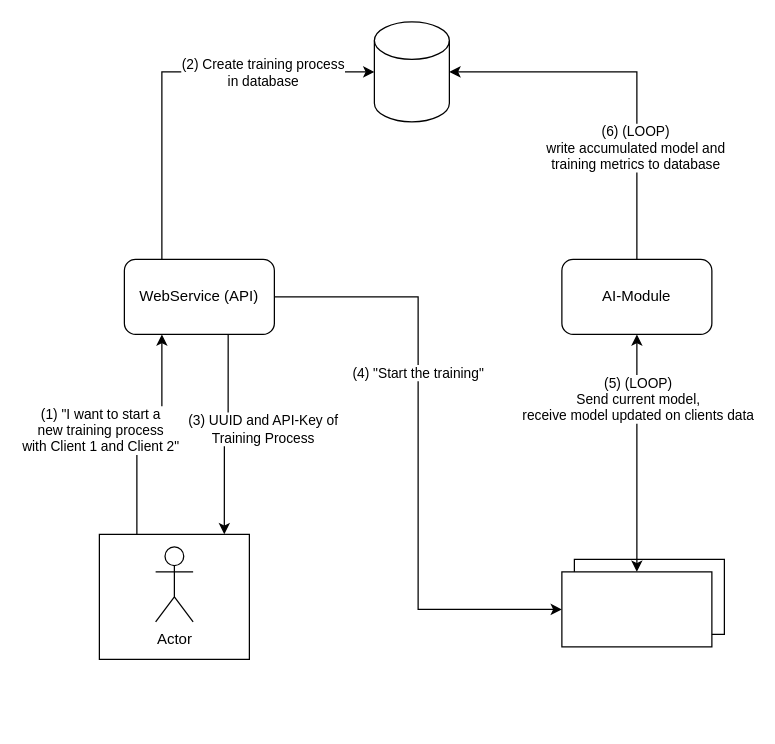
Image size: 775x744. Some labels were removed from this diagram. Here are the shapes that lost their labels. From the top down, the centre of each, then its label:
point (411, 71): DB
point (636, 609): Clients
